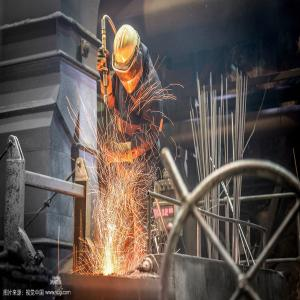yellow: (111, 23, 145, 92)
